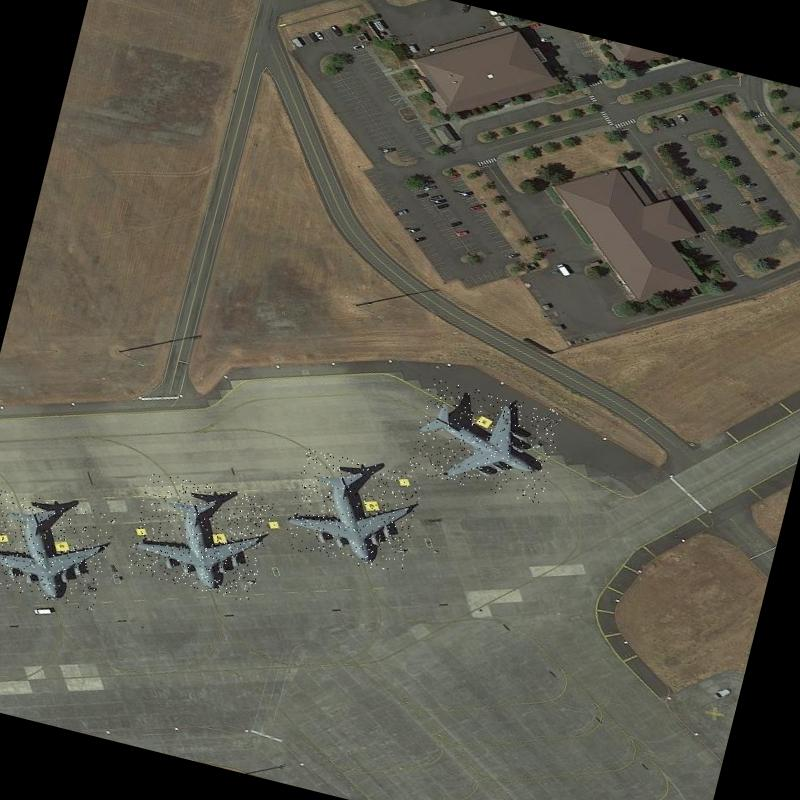A3: (123, 469, 276, 603), (406, 378, 564, 504), (282, 448, 425, 576), (0, 484, 115, 611)
